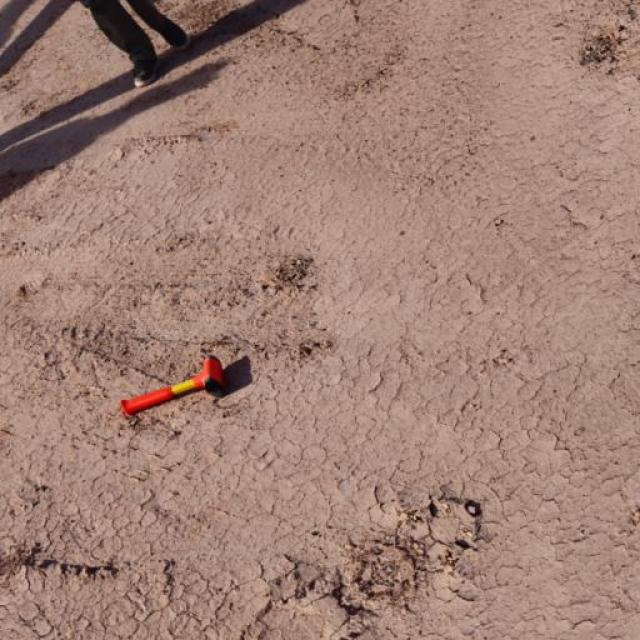mallet: (119, 354, 228, 418)
